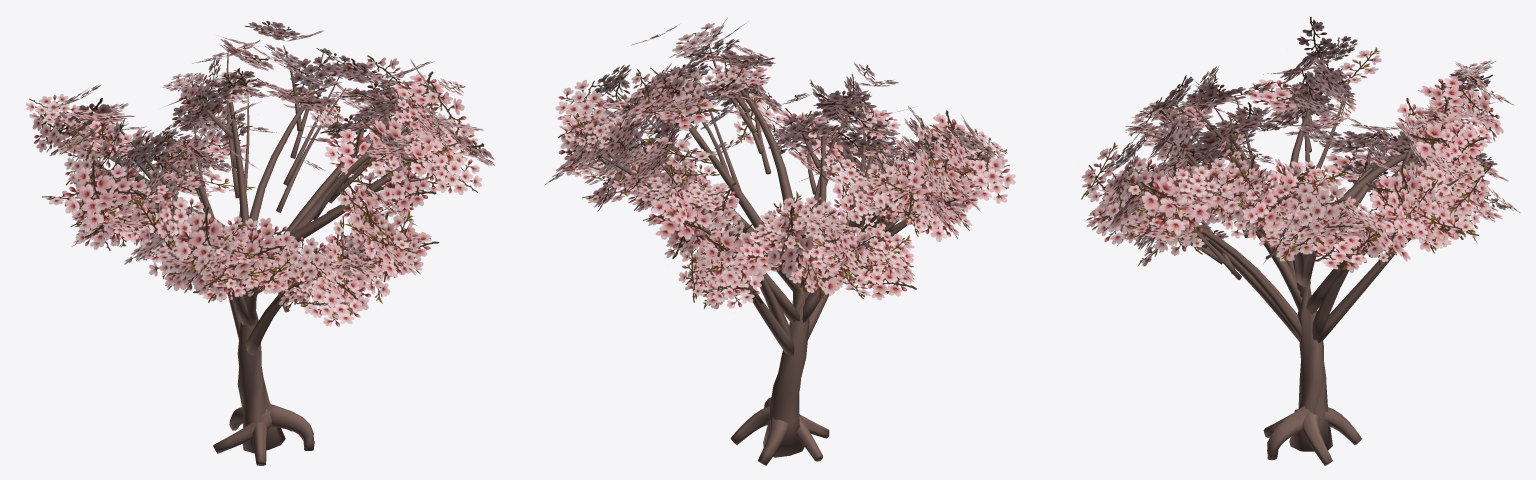
Rendered from sakura_2.glb.
3 views of the same model, side by side, from view 1: azimuth 30°, elevation 25°; view 2: azimuth 150°, elevation 25°; view 3: azimuth 270°, elevation 25° (orthographic).
Visible parts, largest first — view 1: GEO-Sakura individual flower sprigs, GEO-Sakura flowing trunk and twigs; view 2: GEO-Sakura individual flower sprigs, GEO-Sakura flowing trunk and twigs; view 3: GEO-Sakura individual flower sprigs, GEO-Sakura flowing trunk and twigs.
Boxes of the visible parts, box(x1,y1,x2,y2) form: GEO-Sakura individual flower sprigs: box(26, 21, 495, 326); GEO-Sakura flowing trunk and twigs: box(64, 45, 461, 465); GEO-Sakura individual flower sprigs: box(545, 17, 1015, 309); GEO-Sakura flowing trunk and twigs: box(579, 45, 965, 465); GEO-Sakura individual flower sprigs: box(1081, 17, 1520, 272); GEO-Sakura flowing trunk and twigs: box(1112, 53, 1486, 465).
Bounding box in the file's own units: 5.91 × 4.96 × 5.59.
2 materials, 1 textured.
